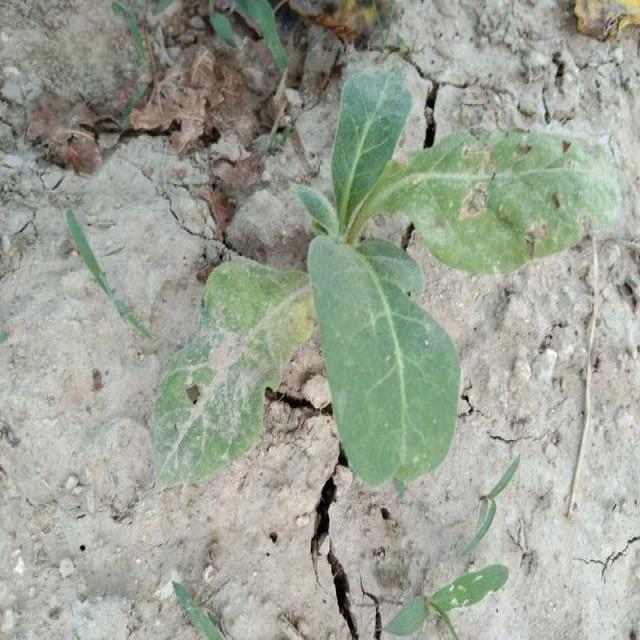crop: (164, 72, 623, 500)
